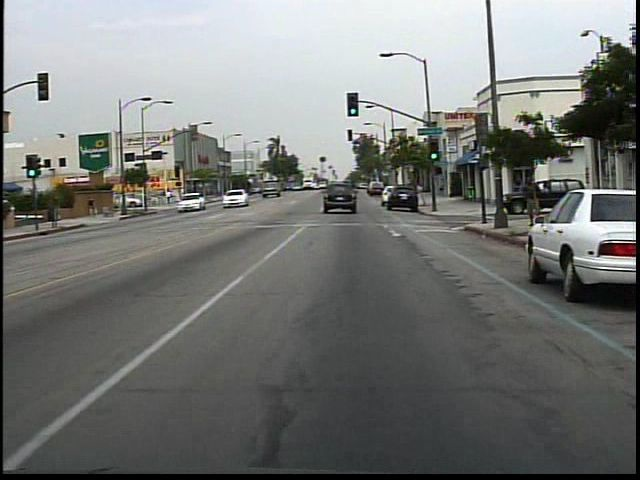person: (519, 171, 544, 234), (88, 192, 107, 221), (165, 187, 175, 208)
